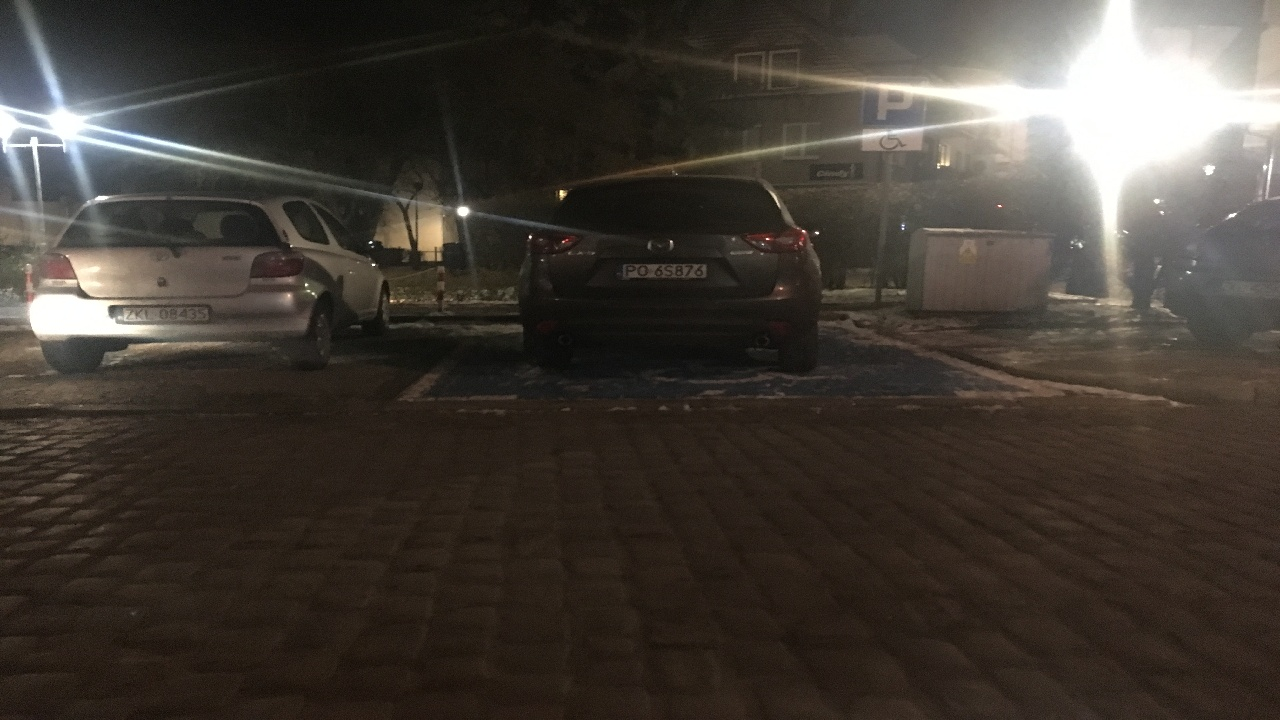D18: (864, 75, 926, 128)
